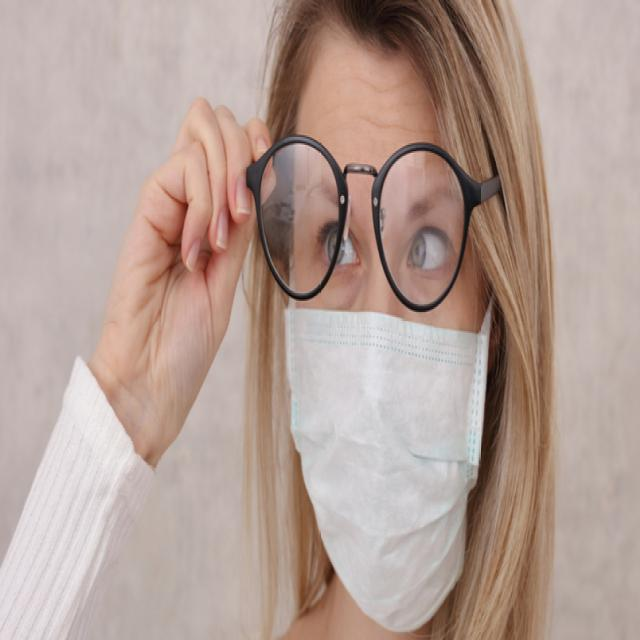Glasses: (243, 128, 500, 314)
